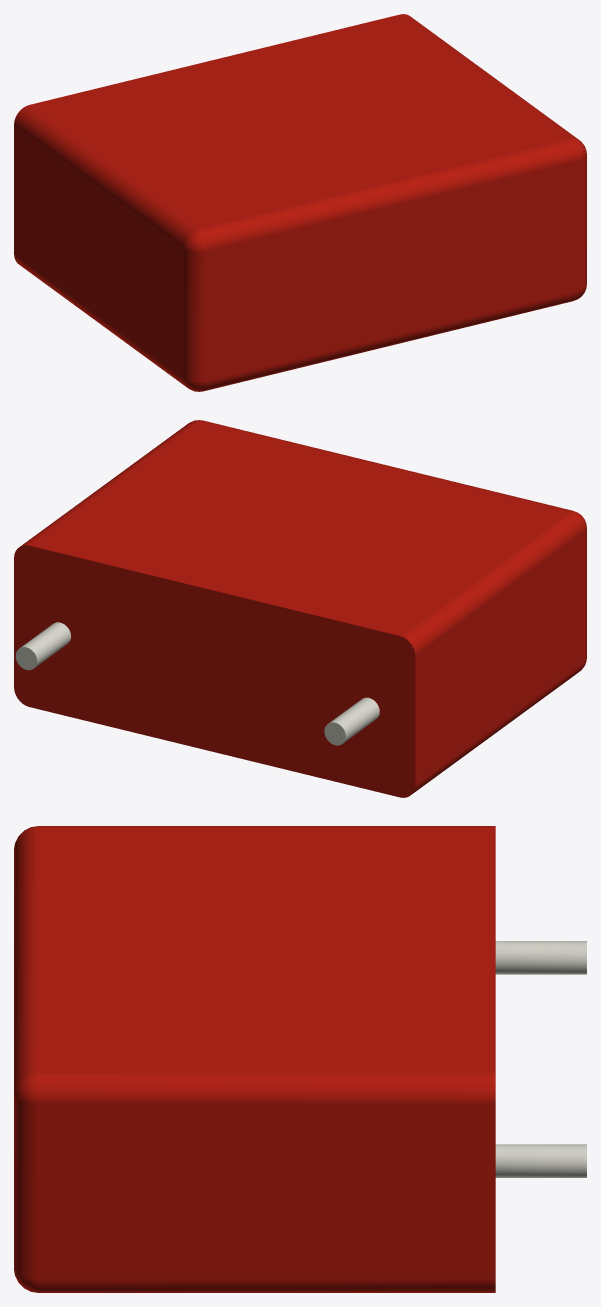
The model's file is c-rect-l13.0-w5.0-p10.00-fks3-fkp3-mks4.glb.
The picture shows the model from 3 angles, top to bottom: view 1: azimuth 30°, elevation 25°; view 2: azimuth 150°, elevation 25°; view 3: azimuth 270°, elevation 25°; orthographic projection. The views are drawn at different scales.
Parts seen in each view (by area): view 1: RED-BODY; view 2: RED-BODY, PIN-01 (×2); view 3: RED-BODY, PIN-01 (×2).
Part boxes in pixels (bbox=[...]): RED-BODY: bbox=[14, 14, 586, 391]; RED-BODY: bbox=[14, 420, 586, 797]; PIN-01 (×2): bbox=[20, 622, 379, 742]; RED-BODY: bbox=[14, 826, 495, 1292]; PIN-01 (×2): bbox=[495, 941, 586, 1177].
Bounding box in the file's own units: 13 × 5 × 11.9.
